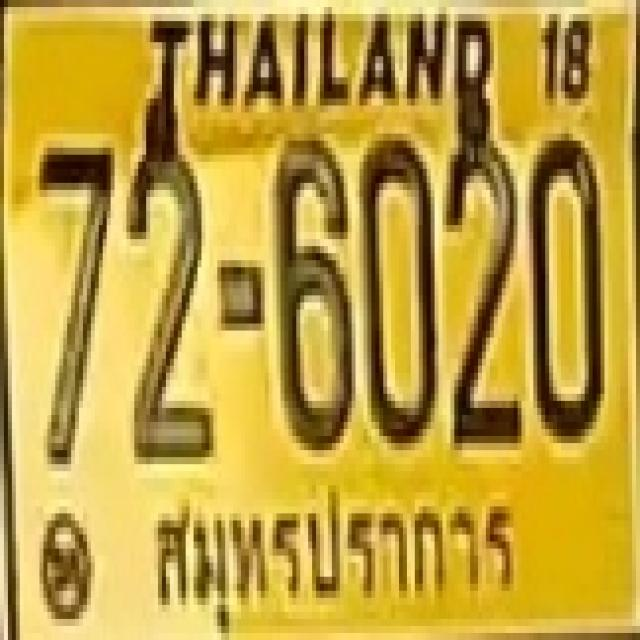0: (526, 130, 600, 440), (360, 134, 434, 443)
2: (126, 130, 210, 454), (447, 127, 518, 443)
6: (272, 134, 352, 443)
7: (36, 137, 110, 461)
SPK: (155, 482, 530, 636)
